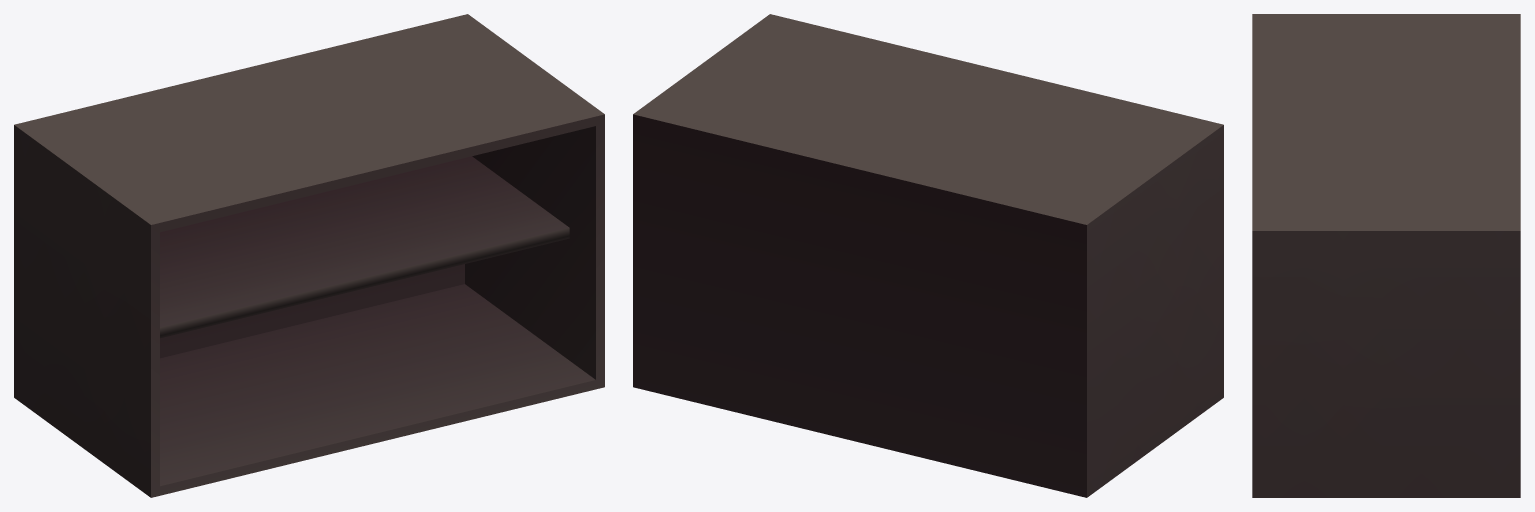
Rendered from TSP_Kitchen_Cabinet_Top_05B.fbx.
3 renders of one model, left to right at view 1: azimuth 30°, elevation 25°; view 2: azimuth 150°, elevation 25°; view 3: azimuth 270°, elevation 25°, orthographic. The views are drawn at different scales.
Parts seen in each view (by area): view 1: TSP_Kitchen_Cabinet_Top_05B; view 2: TSP_Kitchen_Cabinet_Top_05B; view 3: TSP_Kitchen_Cabinet_Top_05B.
Part boxes in pixels (x1=…): TSP_Kitchen_Cabinet_Top_05B: x1=14, y1=14, x2=604, y2=497; TSP_Kitchen_Cabinet_Top_05B: x1=633, y1=14, x2=1223, y2=497; TSP_Kitchen_Cabinet_Top_05B: x1=1252, y1=14, x2=1520, y2=497.
Bounding box in the file's own units: 1 × 0.5745 × 0.5231.
